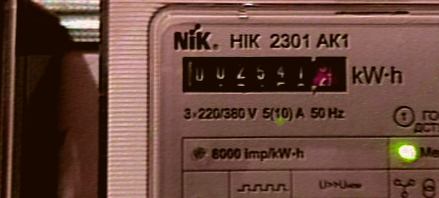0: (193, 60, 207, 81), (214, 58, 227, 79)
1: (295, 57, 307, 80)
2: (234, 57, 249, 80)
4: (275, 57, 287, 78)
5: (254, 58, 268, 81)
6: (317, 73, 329, 85)
screen: (170, 44, 360, 99)
